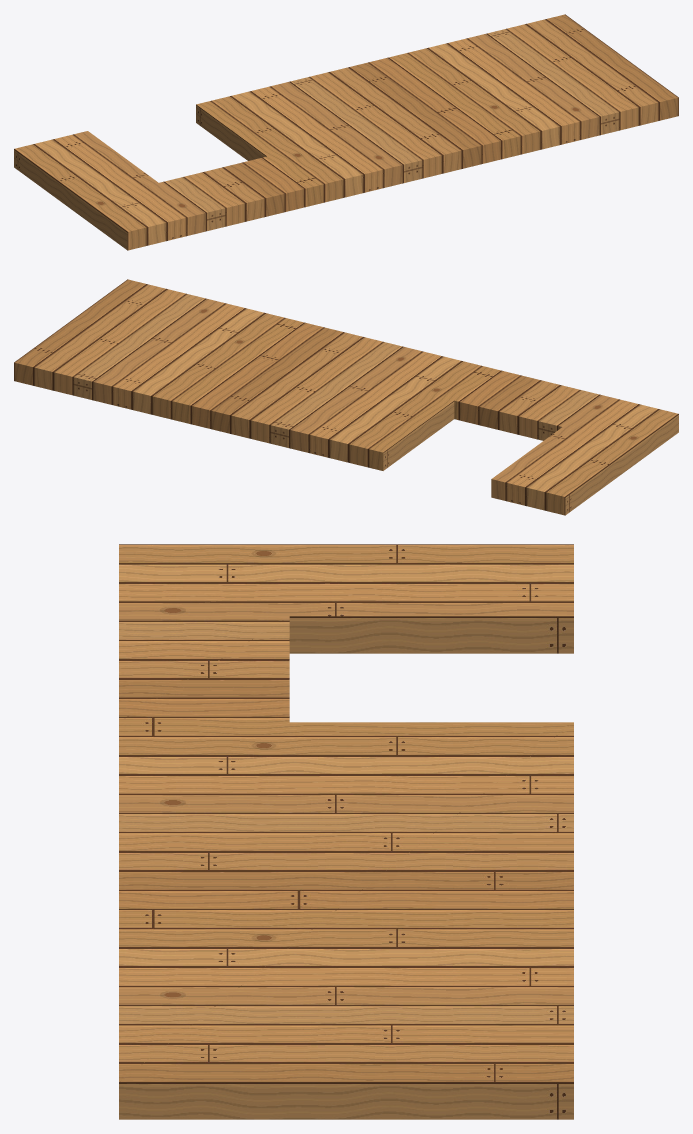
Rendered from STAIR_PORT_END.glb.
3 views of the same model, one above another, from view 1: azimuth 30°, elevation 25°; view 2: azimuth 150°, elevation 25°; view 3: azimuth 270°, elevation 25° (orthographic). The views are drawn at different scales.
Visible parts, largest first — view 1: STAIR_PORT_END; view 2: STAIR_PORT_END; view 3: STAIR_PORT_END.
Boxes of the visible parts, x1,y1,x2,y2 form: STAIR_PORT_END: [14, 14, 678, 250]; STAIR_PORT_END: [14, 279, 678, 515]; STAIR_PORT_END: [119, 544, 573, 1119].
Size of the model in its own units: 5.6 by 0.18 by 2.
Materials: 1 (1 with a texture image).
